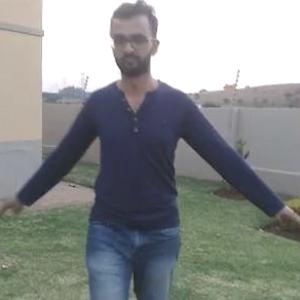land: (51, 80, 204, 299)
